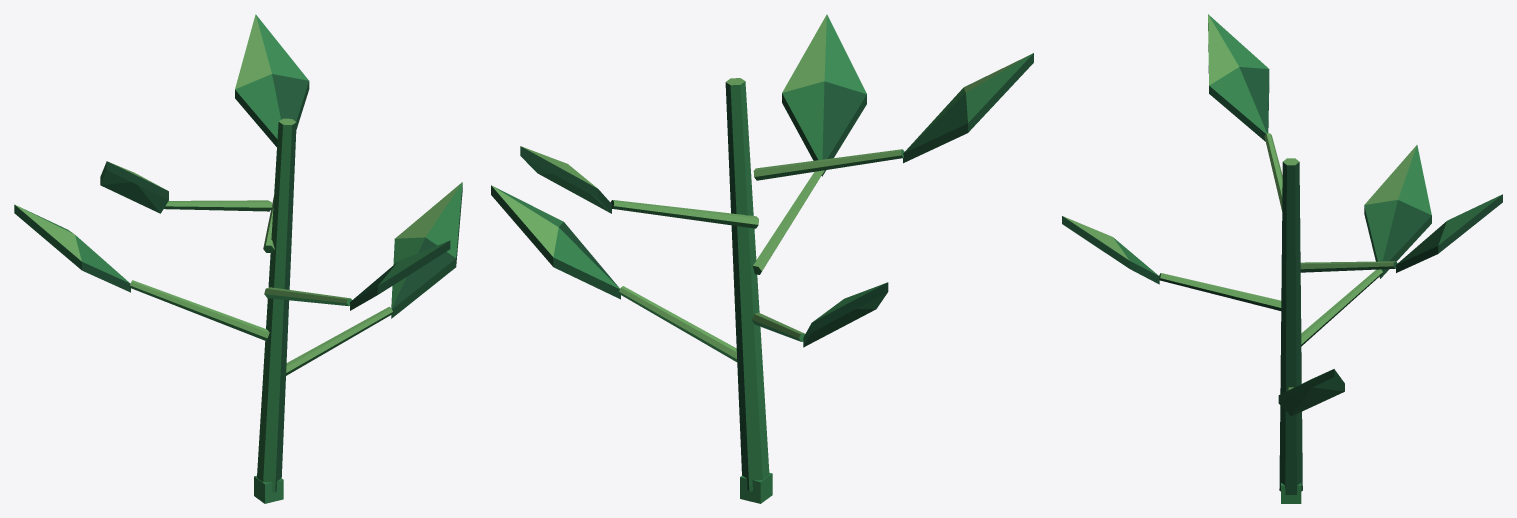
Rendered from tomato_stage_02.fbx.
The picture shows the model from 3 angles, left to right: view 1: azimuth 30°, elevation 25°; view 2: azimuth 150°, elevation 25°; view 3: azimuth 270°, elevation 25°; orthographic projection. The views are drawn at different scales.
Parts seen in each view (by area): view 1: tomato_stage_02__Foliage, tomato_stage_02__Origin; view 2: tomato_stage_02__Foliage, tomato_stage_02__Origin; view 3: tomato_stage_02__Foliage.
Part boxes in pixels (left/top/right/bottom): tomato_stage_02__Foliage: left=14, top=14, right=462, bottom=492; tomato_stage_02__Origin: left=254, top=475, right=283, bottom=503; tomato_stage_02__Foliage: left=491, top=14, right=1033, bottom=491; tomato_stage_02__Origin: left=740, top=472, right=772, bottom=503; tomato_stage_02__Foliage: left=1062, top=14, right=1502, bottom=494.
Size of the model in its own units: 0.9012 by 0.8533 by 0.8704.
1 material, 1 textured.
